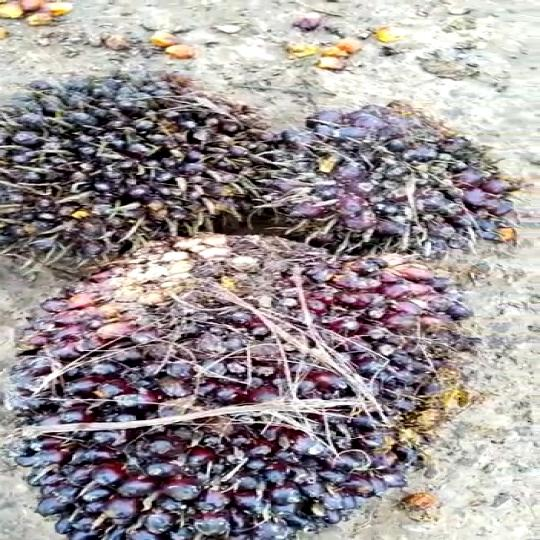kurang masak: (0, 233, 454, 539), (0, 71, 277, 237), (273, 101, 538, 252)
